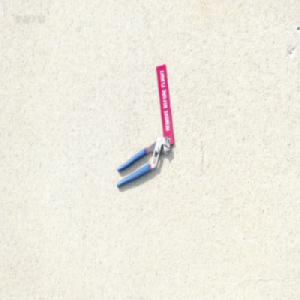Label: (156, 63, 174, 145)
Pliers: (116, 135, 170, 189)
